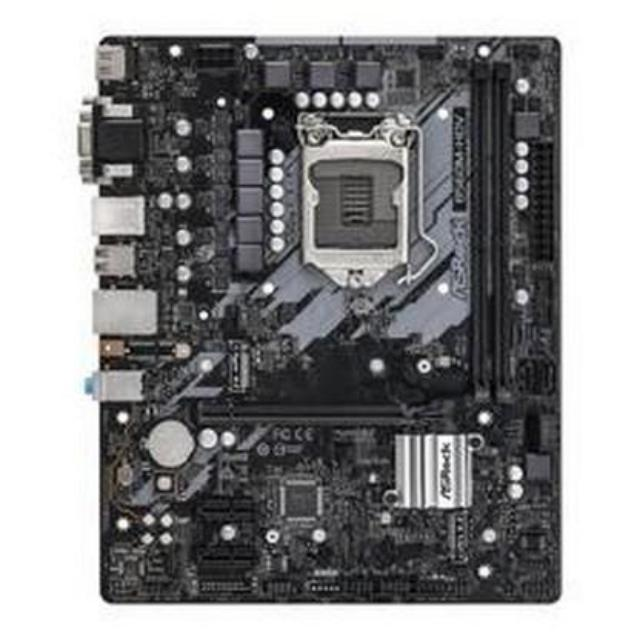Mainboard: (86, 26, 577, 612)
